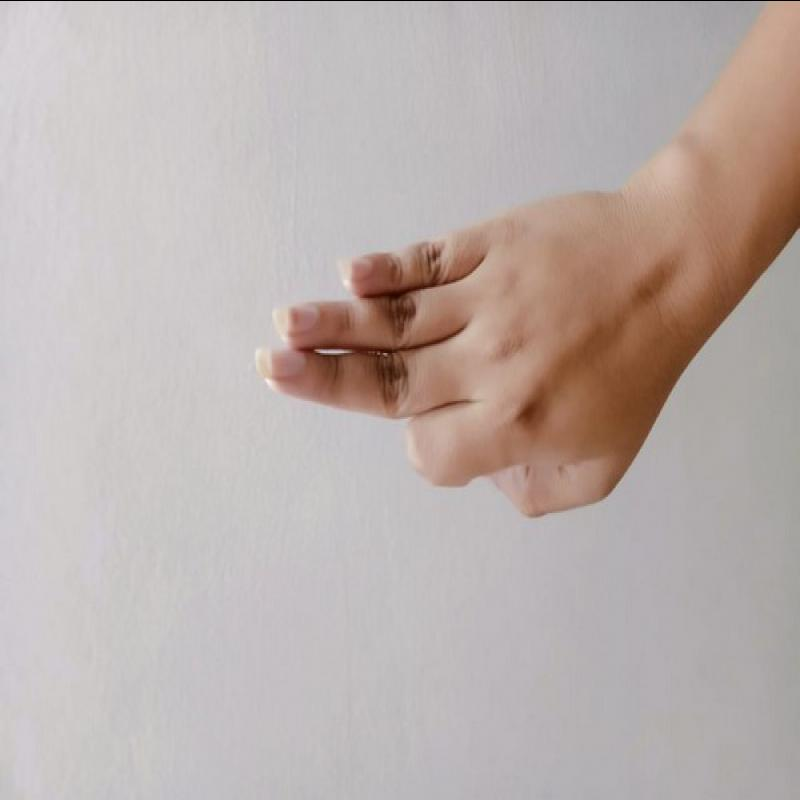Mudraakhyam: (240, 168, 690, 535)
